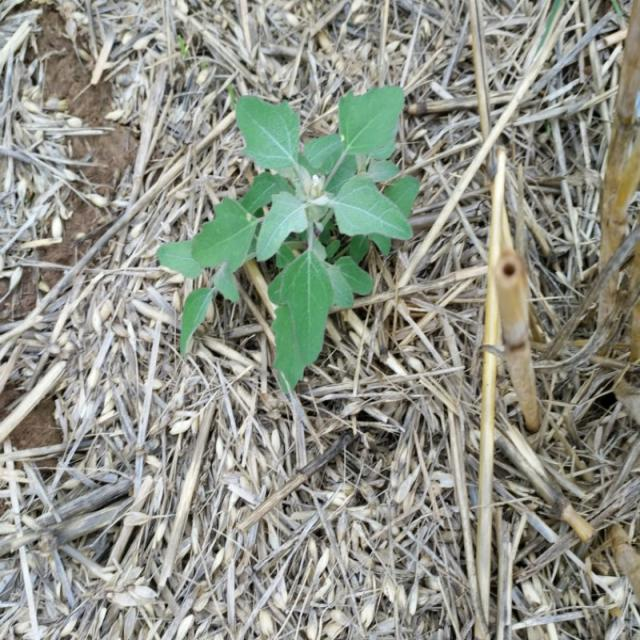goosefoots: (163, 72, 408, 371)
